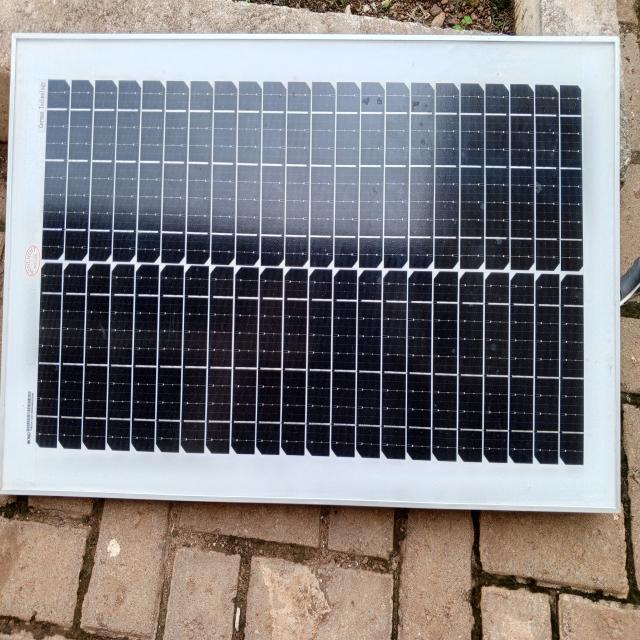Clean: (34, 52, 601, 490)
